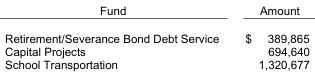table: (4, 3, 309, 70)
table column: (4, 3, 231, 70), (231, 3, 309, 70)
table column header: (4, 3, 309, 24)
table row: (4, 3, 309, 24), (4, 24, 309, 44), (4, 44, 309, 57), (4, 57, 309, 70)
